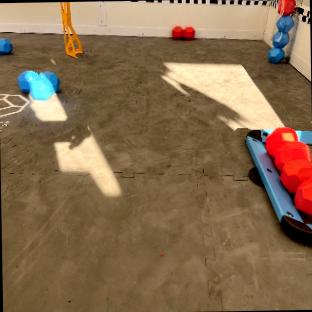Loader: (267, 0, 296, 62)
V5_BLUE: (18, 71, 59, 99), (0, 39, 11, 53)
V5_RED: (265, 126, 312, 214), (171, 26, 194, 38)
